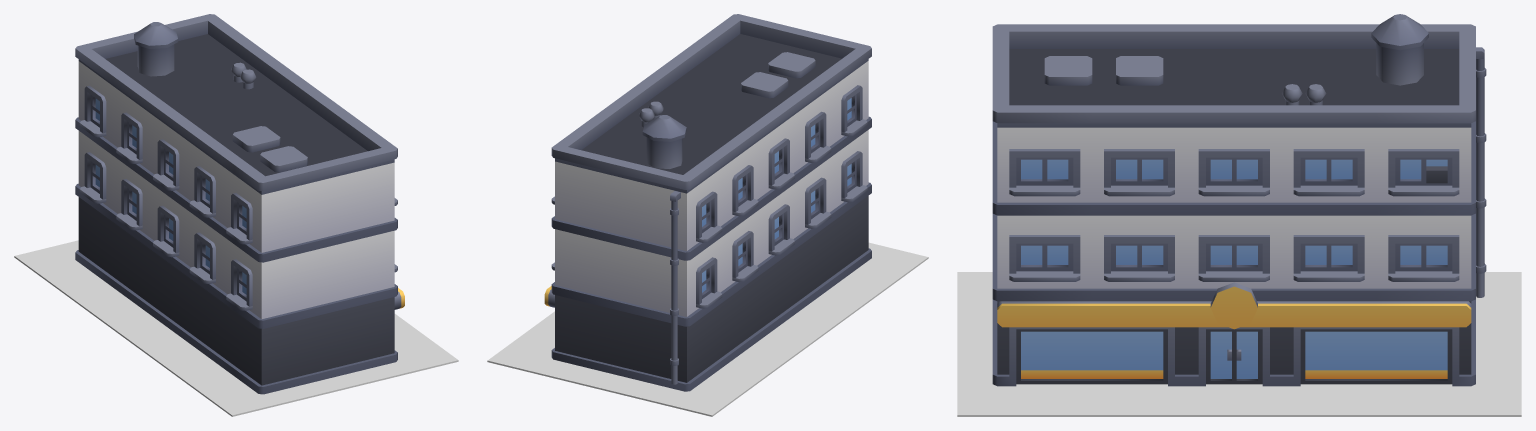
File: shop2.glb
3 views of the same model, side by side, from view 1: azimuth 30°, elevation 25°; view 2: azimuth 150°, elevation 25°; view 3: azimuth 270°, elevation 25° (orthographic). The views are drawn at different scales.
Visible parts, largest first — view 1: building-k, Cube; view 2: building-k, Cube; view 3: building-k, Cube.
Boxes of the visible parts, bbox=[...] form: building-k: bbox=[75, 14, 404, 394]; Cube: bbox=[14, 240, 458, 416]; building-k: bbox=[544, 14, 871, 391]; Cube: bbox=[487, 242, 928, 416]; building-k: bbox=[992, 14, 1486, 386]; Cube: bbox=[957, 272, 1521, 416].
Size of the model in its own units: 30 by 30.97 by 50.
2 materials, 1 textured.
